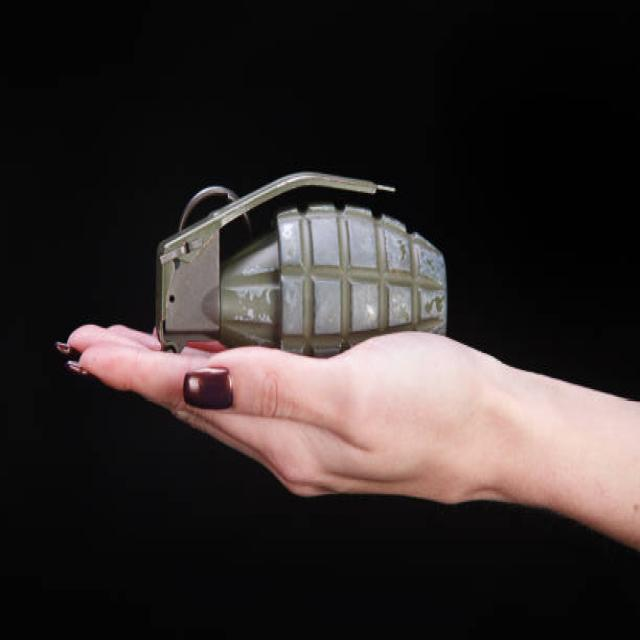grenade: (153, 165, 460, 356)
